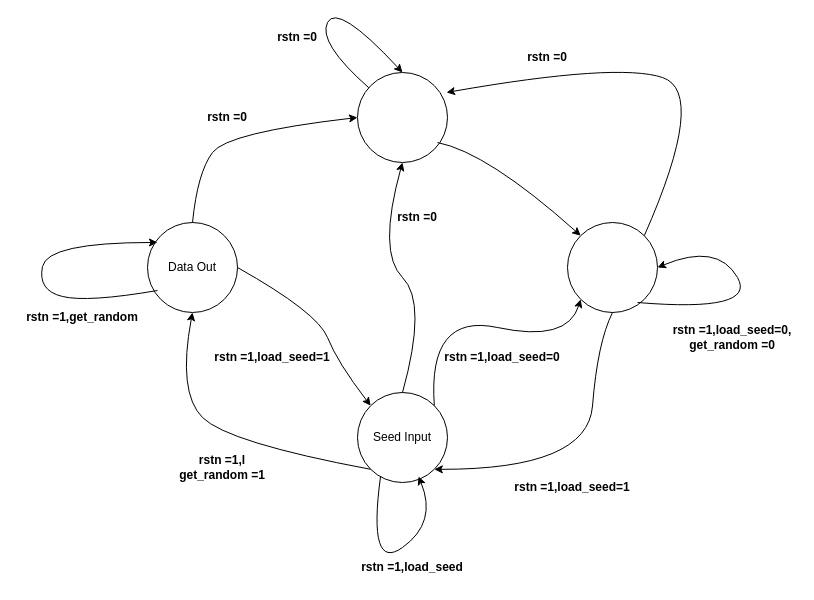
Some shapes in this 814 by 600 pixel diagram are drawn without their labels. Each missing label, with the centre of its shape:
LFSR: the point at 612,267
Reset: the point at 402,117
